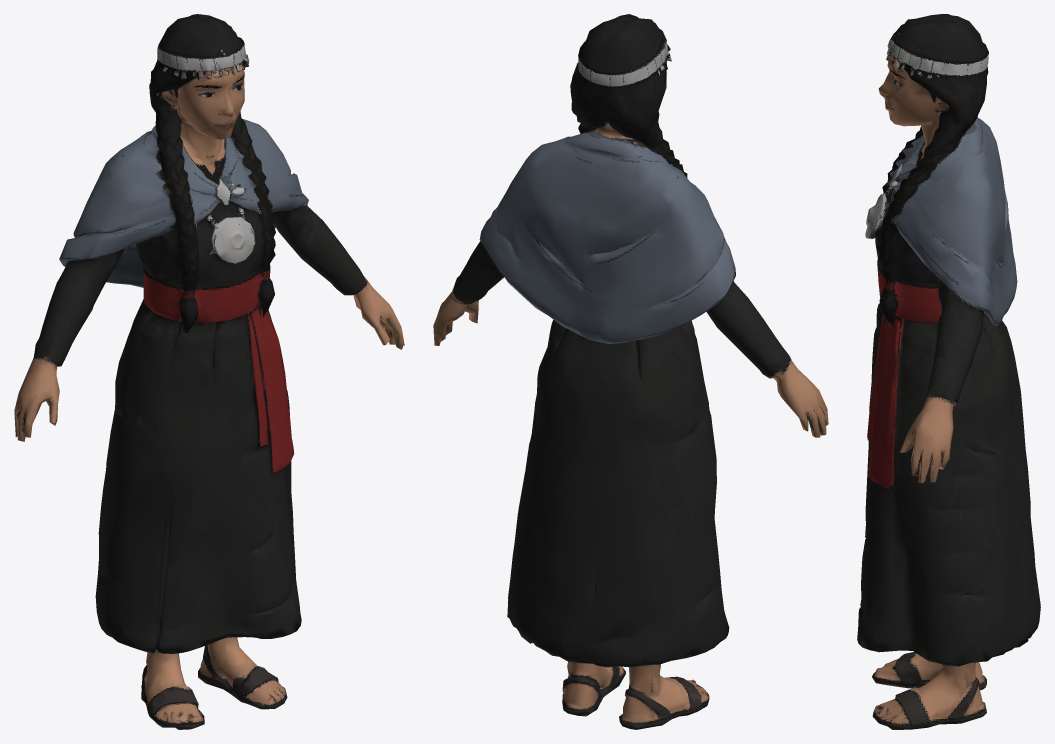
The model's file is inti.glb.
3 views of the same model, side by side, from view 1: azimuth 30°, elevation 25°; view 2: azimuth 150°, elevation 25°; view 3: azimuth 270°, elevation 25° (orthographic).
Visible parts, largest first — view 1: tripo_node_d4974950-0c0c-4f3f-b2d9-e39c06c27472; view 2: tripo_node_d4974950-0c0c-4f3f-b2d9-e39c06c27472; view 3: tripo_node_d4974950-0c0c-4f3f-b2d9-e39c06c27472.
Part boxes in pixels (<box>): tripo_node_d4974950-0c0c-4f3f-b2d9-e39c06c27472: <box>14,14,404,729</box>; tripo_node_d4974950-0c0c-4f3f-b2d9-e39c06c27472: <box>433,14,828,729</box>; tripo_node_d4974950-0c0c-4f3f-b2d9-e39c06c27472: <box>857,14,1040,729</box>.
Size of the model in its own units: 0.5953 by 1 by 0.2444.
1 material, 1 textured.
